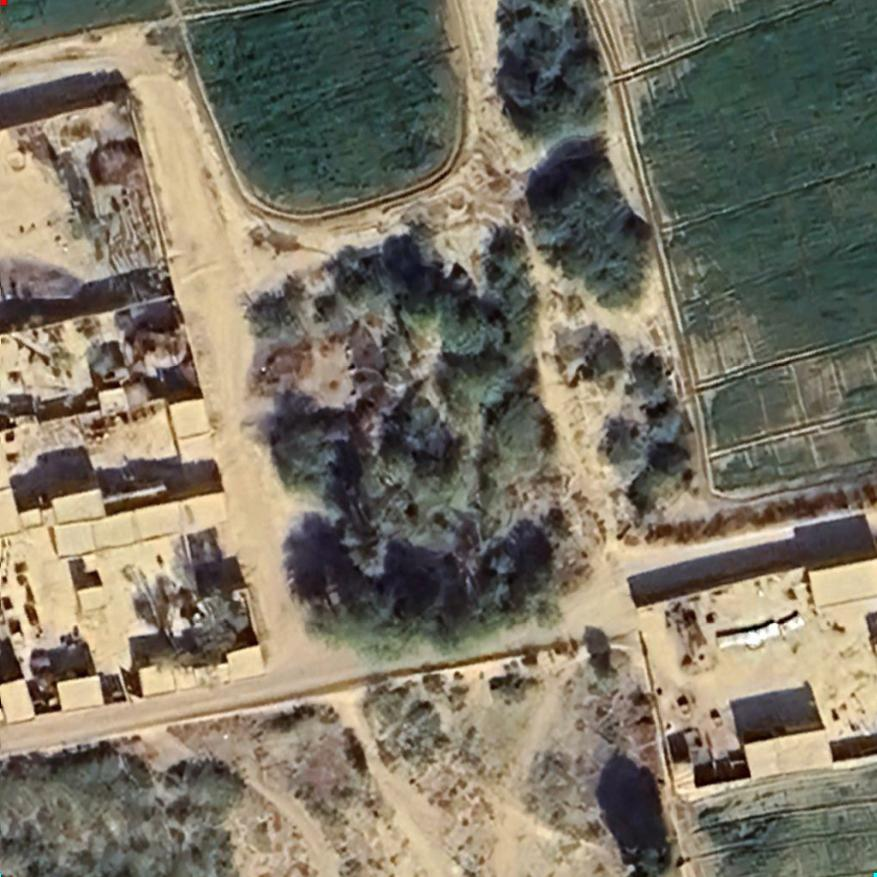Solarpanel: (710, 606, 813, 660)
